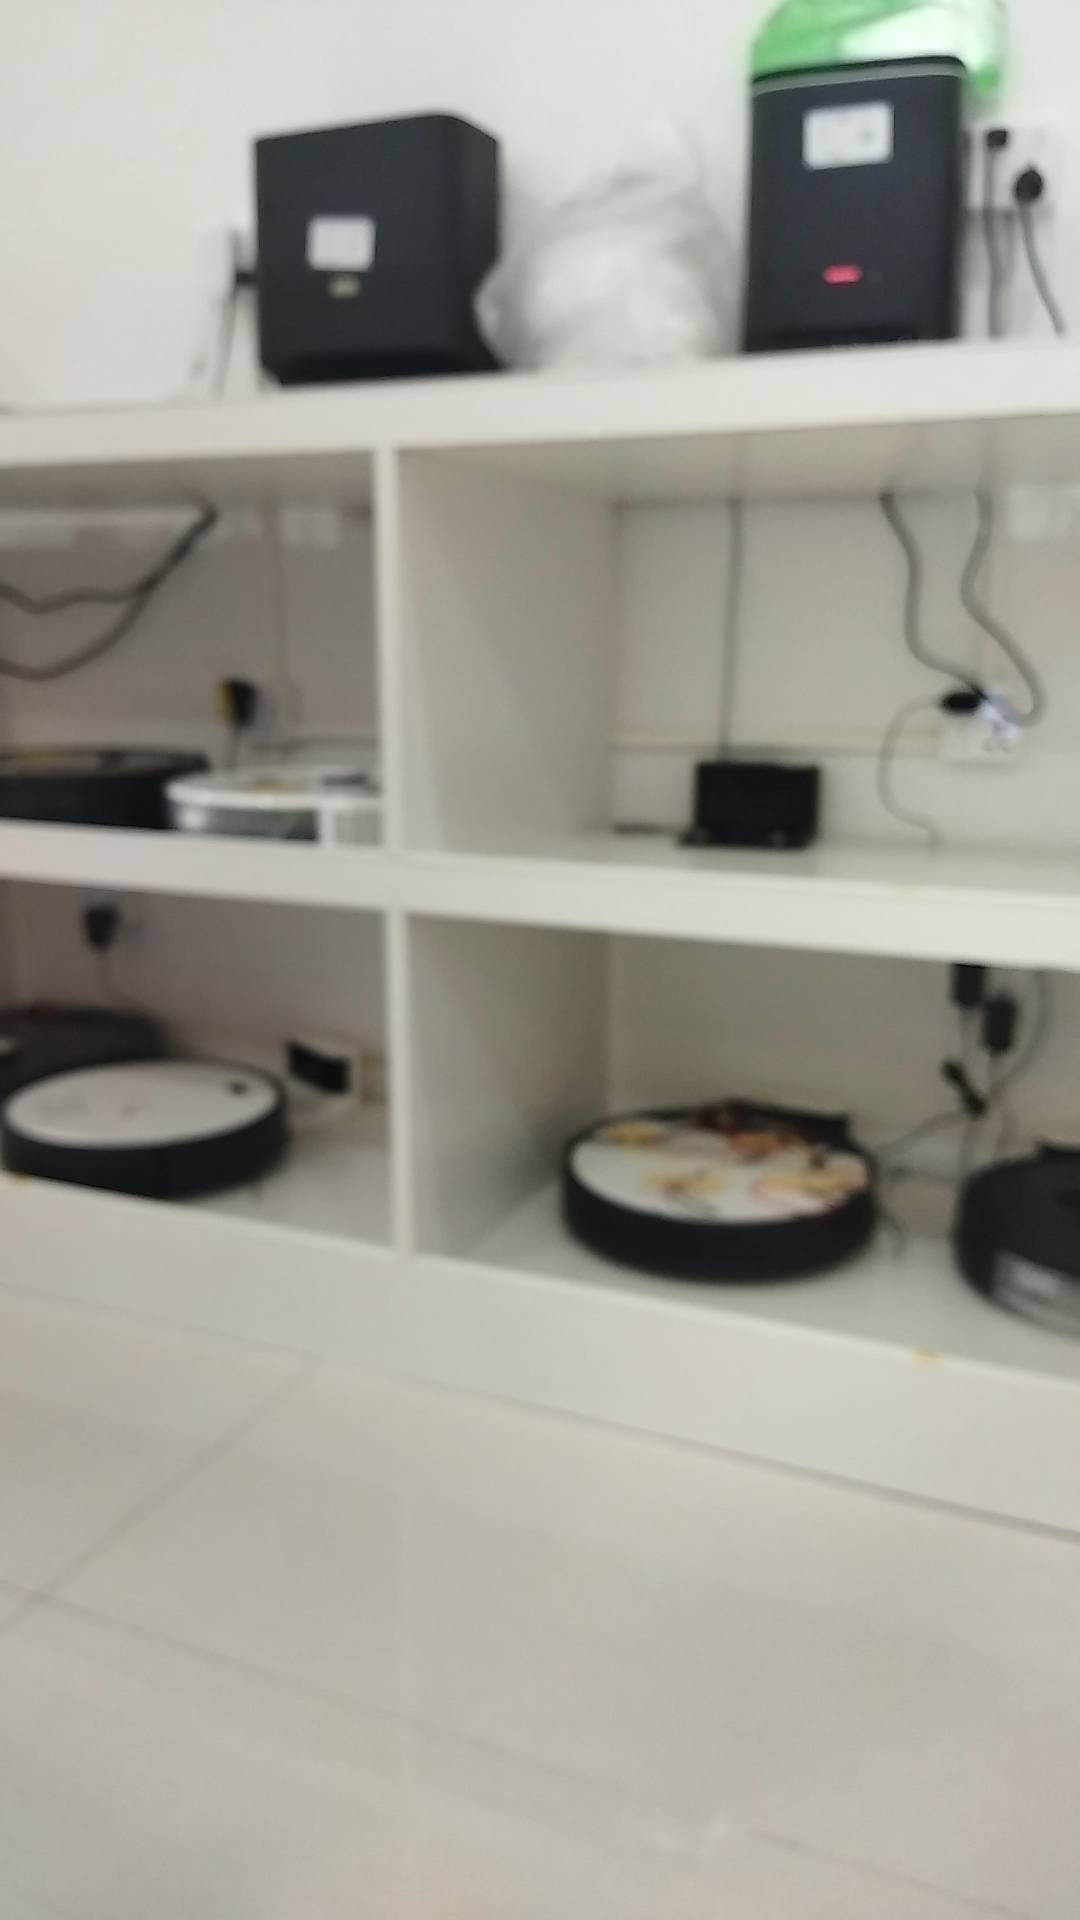dust collecting barrel: (737, 55, 975, 353), (258, 115, 506, 389)
recharge seat: (678, 756, 824, 851), (270, 1034, 367, 1130)
